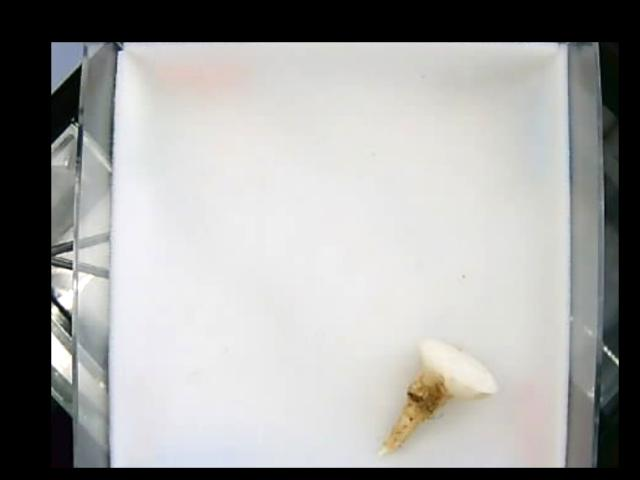Mooli: (376, 335, 496, 457)
